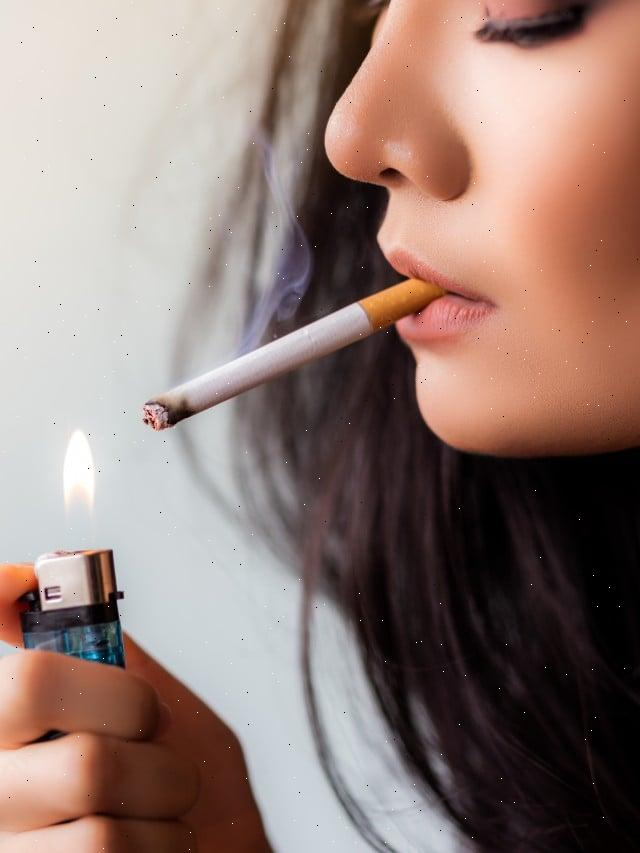cigarette: (143, 279, 445, 429)
